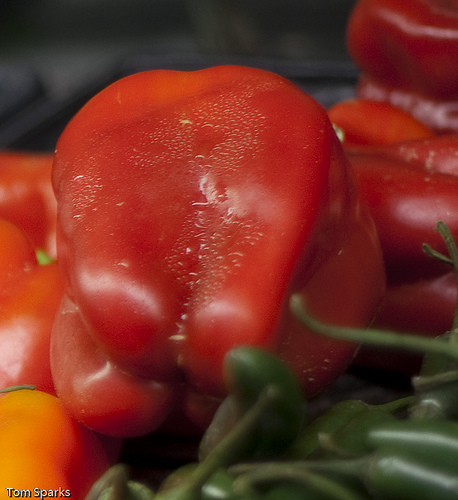capsicum: (45, 63, 382, 441), (325, 102, 456, 338), (345, 1, 456, 132)
